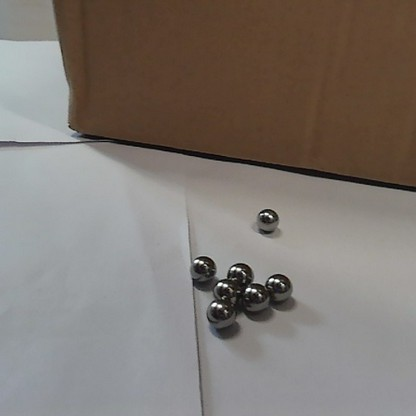ironball: (240, 282, 272, 317), (204, 297, 237, 329), (262, 271, 292, 303), (187, 255, 217, 286), (226, 259, 253, 291), (212, 276, 239, 306), (253, 206, 281, 234)
